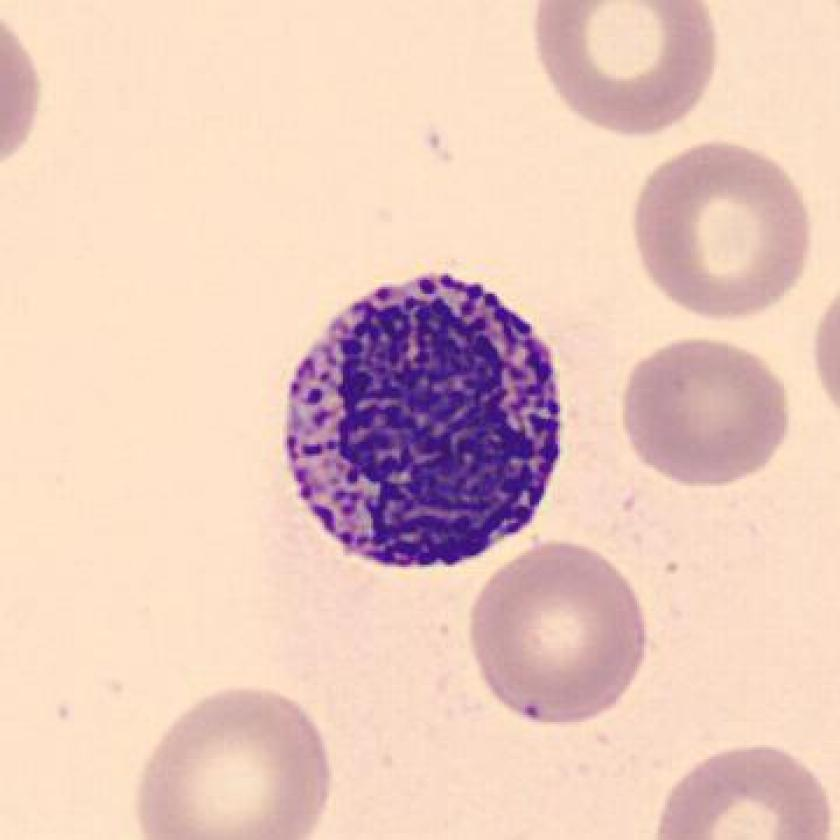basophil: (281, 267, 580, 575)
